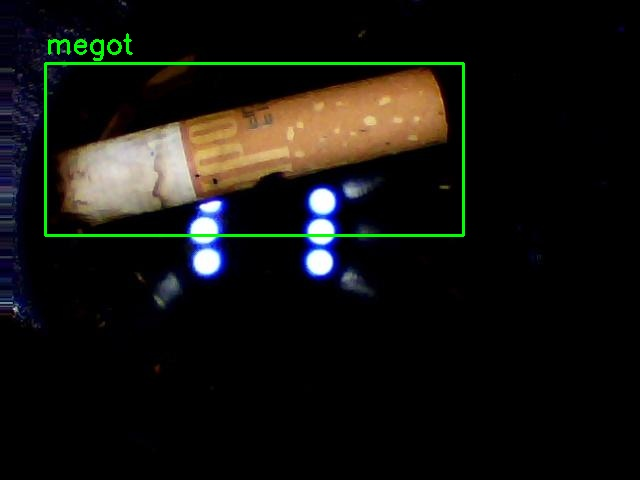megot: (45, 63, 463, 235)
